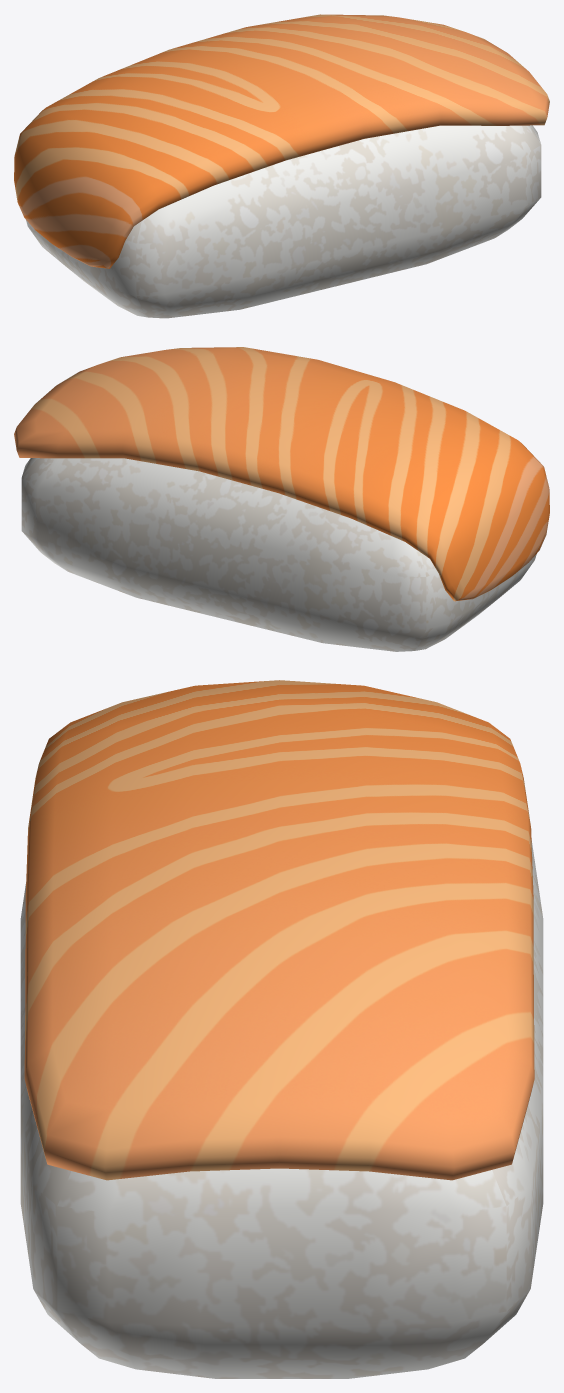
Rendered from Hirame.fbx.
3 renders of one model, top to bottom at view 1: azimuth 30°, elevation 25°; view 2: azimuth 150°, elevation 25°; view 3: azimuth 270°, elevation 25°, orthographic. The views are drawn at different scales.
Parts seen in each view (by area): view 1: Hirame; view 2: Hirame; view 3: Hirame.
Part boxes in pixels (<box>): Hirame: <box>14,14,549,318</box>; Hirame: <box>14,347,549,651</box>; Hirame: <box>20,680,543,1378</box>.
Bounding box in the file's own units: 1.23 × 0.6021 × 0.5418.
